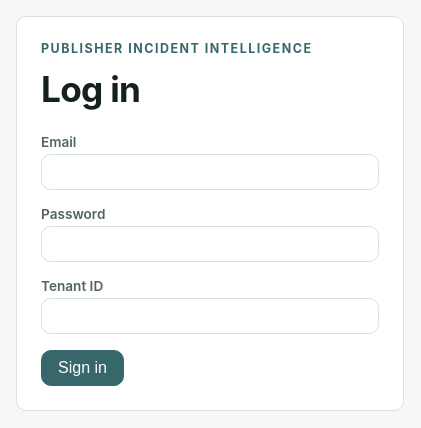
LoginPage › disables the submit button while submitting
Type "slow@example.com" into the field labelled "Email".
click(210, 172); type("slow@example.com")  # box x1=41 y1=154 x2=379 y2=190
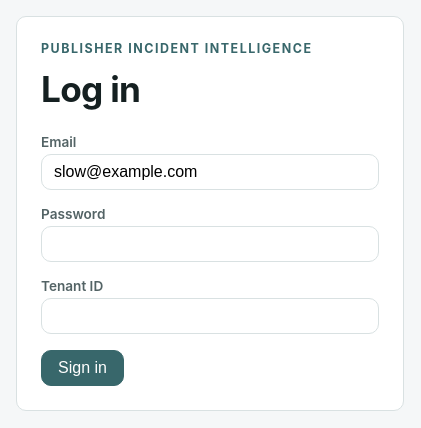
Type "pw" into the password field labelled "Password".
click(210, 244); type("pw")  # box x1=41 y1=226 x2=379 y2=262
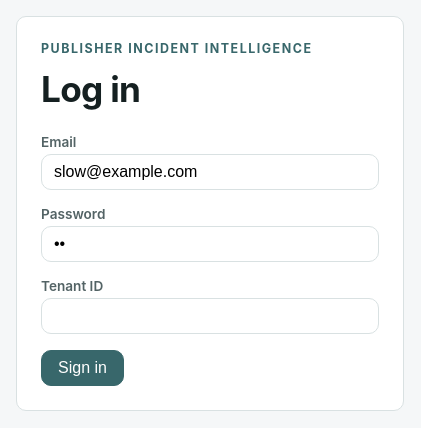
Type "t-1" into the field labelled "Tenant ID".
click(210, 316); type("t-1")  # box x1=41 y1=298 x2=379 y2=334
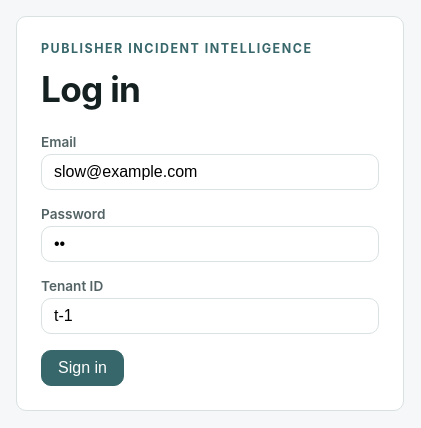
Click the button "Sign in".
click(82, 368)  # box x1=41 y1=350 x2=124 y2=386
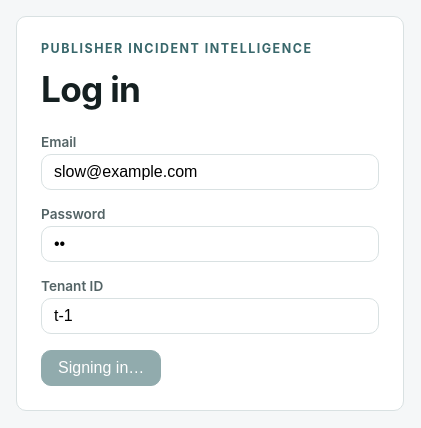
Expected: the button "Signing in…" is disabled, x1=41 y1=350 x2=161 y2=386
